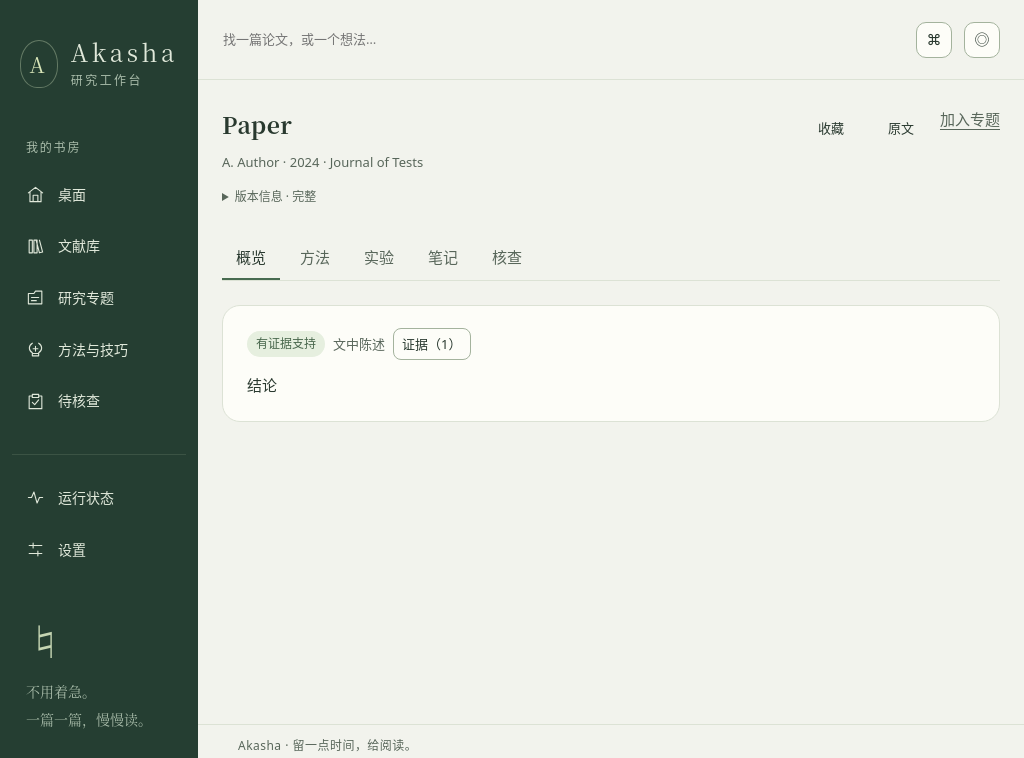
Scenario: UX-030 version switch cannot bleed evidence › keeps the page-evidence request scoped to the pinned version
Check: the element with test id "pinned-version" is shown, box x1=235 y1=188 x2=316 y2=205
Click the button "证据（1）".
click(432, 344)  # box x1=393 y1=328 x2=470 y2=360
(page scrolled)
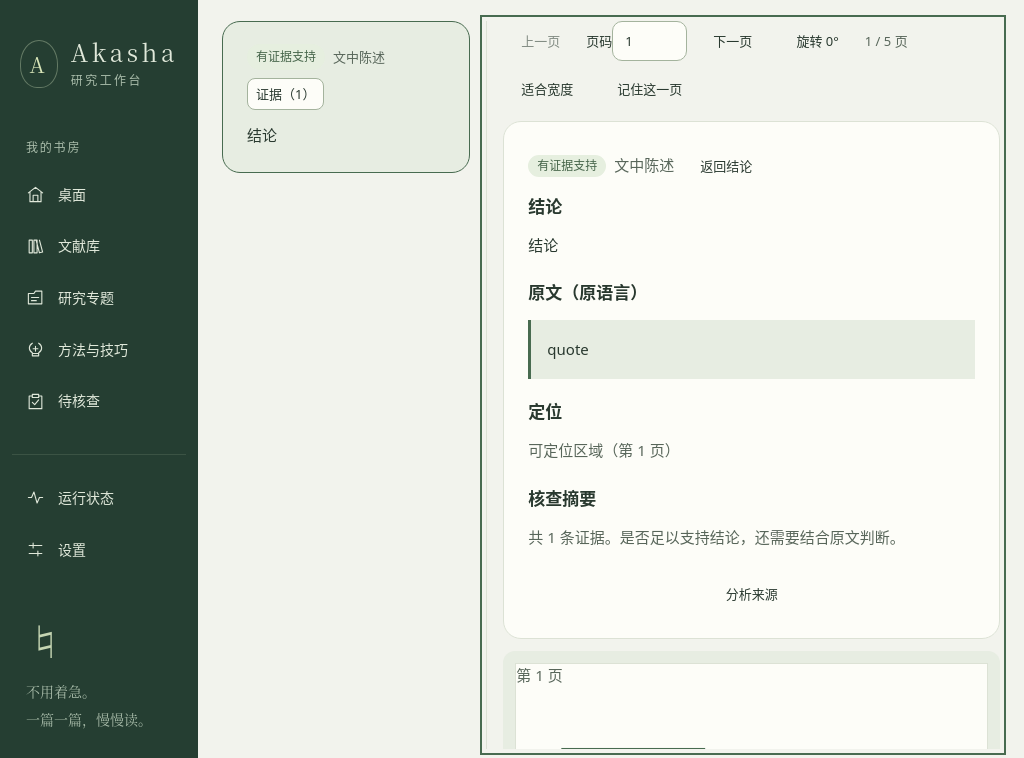
Check: the element with test id "reader-panel" is shown, box x1=486 y1=21 x2=1000 y2=749
